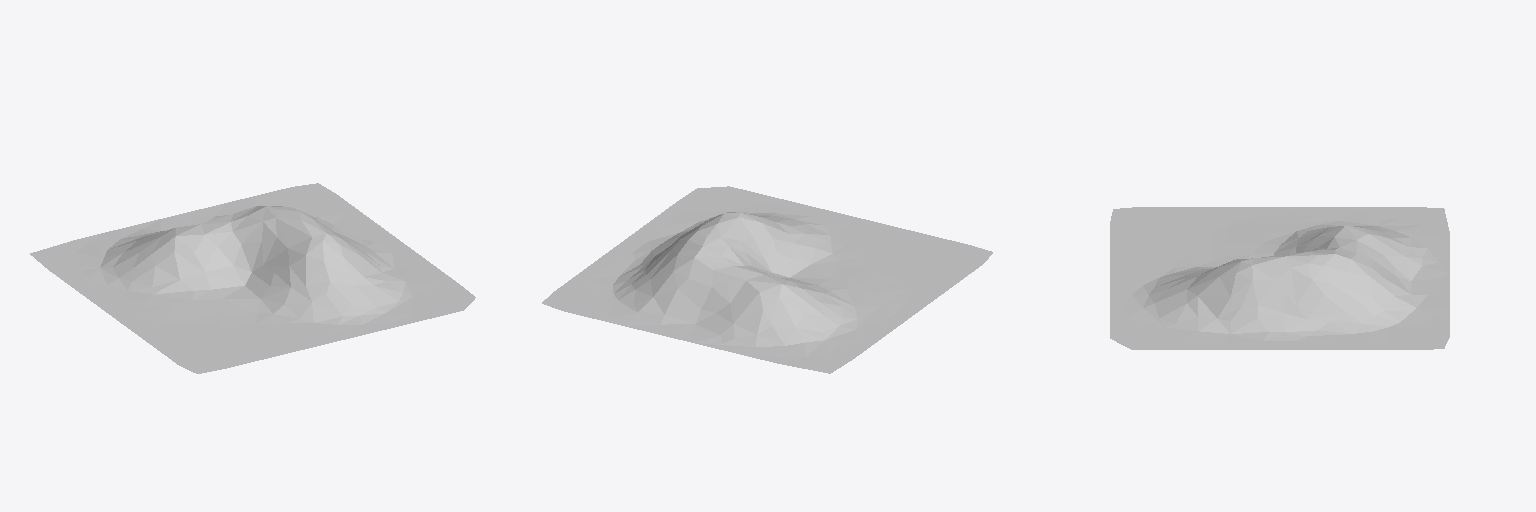
Rendered from SandHill2_BM.obj.
3 renders of one model, left to right at view 1: azimuth 30°, elevation 25°; view 2: azimuth 150°, elevation 25°; view 3: azimuth 270°, elevation 25°, orthographic.
Visible parts, largest first — view 1: Col_Mesh.004; view 2: Col_Mesh.004; view 3: Col_Mesh.004.
Boxes of the visible parts, x1,y1,x2,y2 form: Col_Mesh.004: [30, 183, 475, 373]; Col_Mesh.004: [542, 186, 992, 373]; Col_Mesh.004: [1110, 207, 1449, 349].
Size of the model in its own units: 10 by 1.48 by 10.